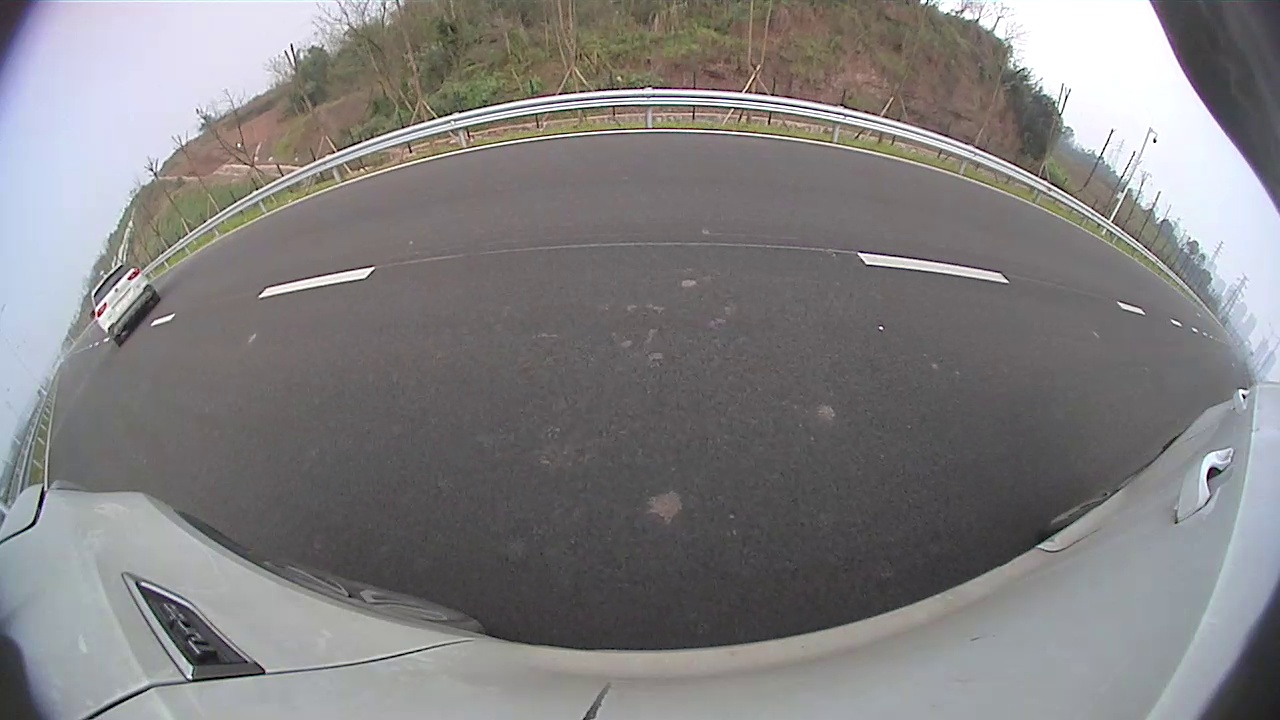car: (474, 151, 556, 208)
front: (549, 176, 557, 196)
rear: (531, 180, 541, 200)
